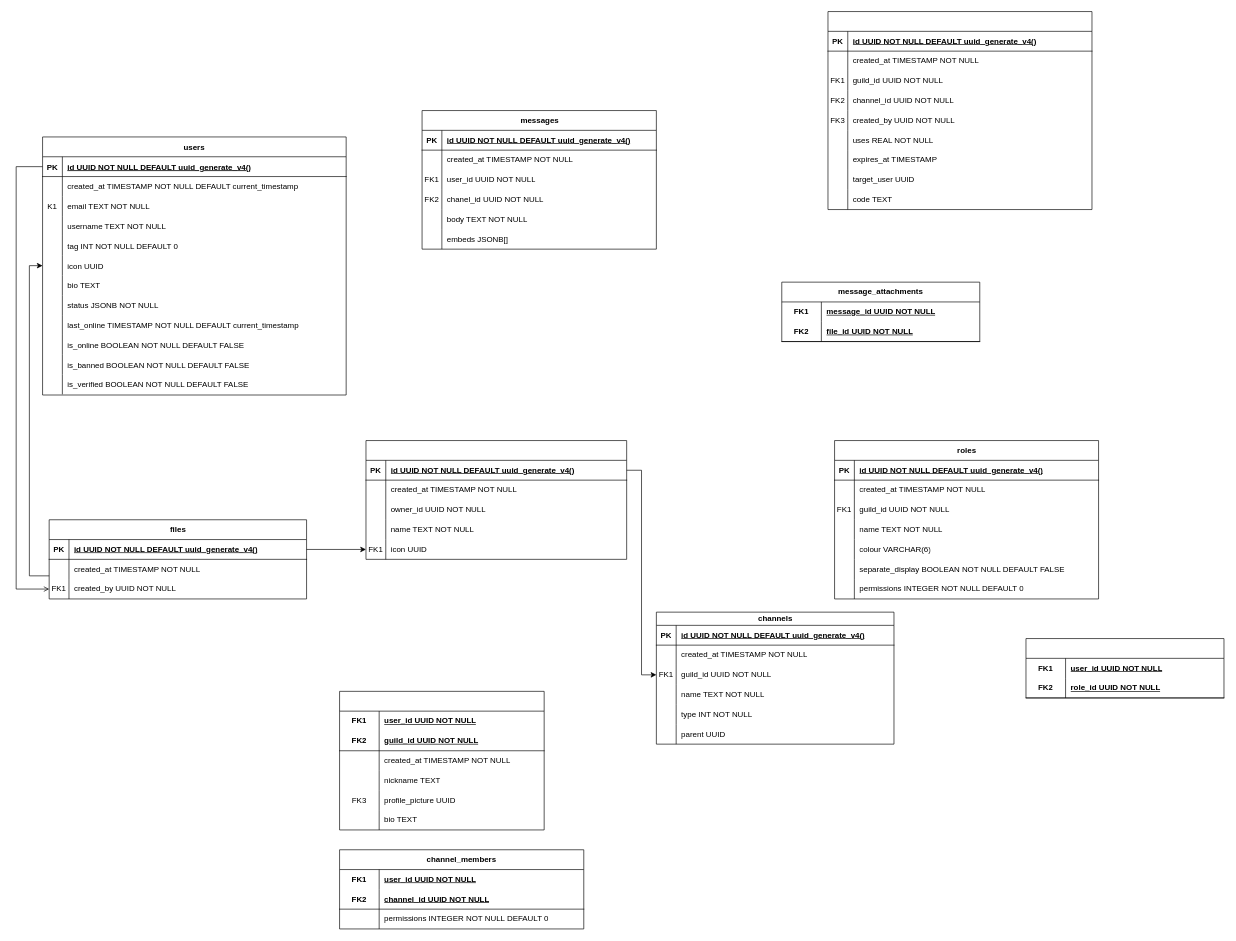
The diagram is 1236 pixels wide and 941 high, and some of its shapes have lost their labels. The shapes that lost their labels are listed below. From the top down, each one's box as (x1, y1, x2, y2) in pixels, then its label:
(827, 11, 1092, 210): invites
(365, 440, 627, 559): guilds
(1025, 638, 1224, 698): user_roles
(339, 691, 544, 830): guild_members
